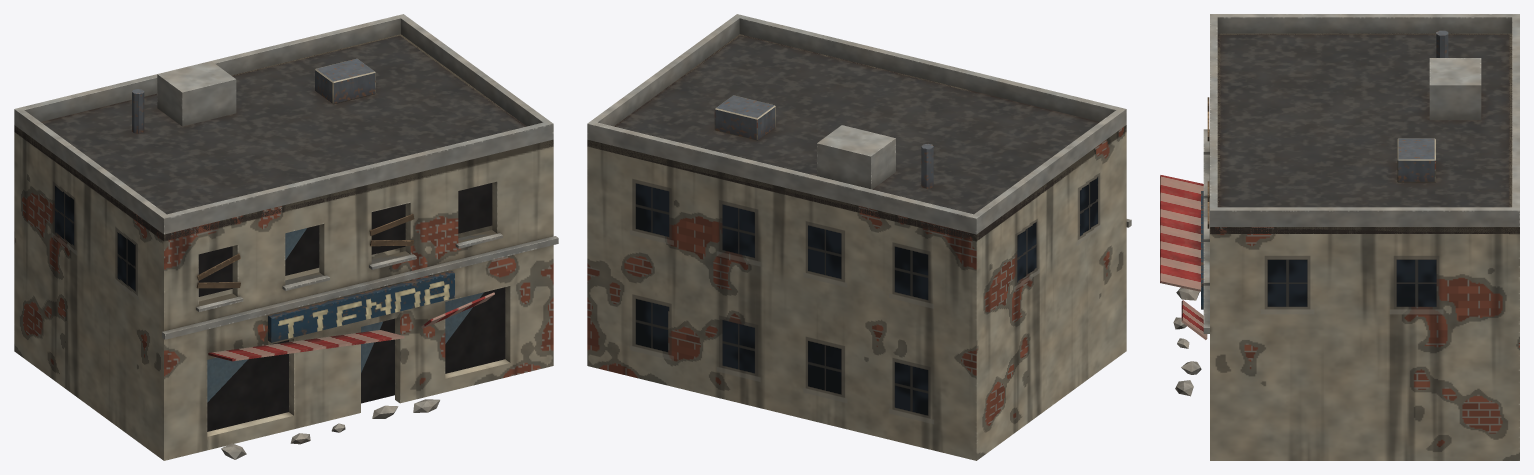
Rendered from Edificio_Tienda.glb.
3 renders of one model, left to right at view 1: azimuth 30°, elevation 25°; view 2: azimuth 150°, elevation 25°; view 3: azimuth 270°, elevation 25°, orthographic. The views are drawn at different scales.
Visible parts, largest first — view 1: Edificio_Tienda; view 2: Edificio_Tienda; view 3: Edificio_Tienda.
Part boxes in pixels (x1=…): Edificio_Tienda: x1=14, y1=14, x2=558, y2=460; Edificio_Tienda: x1=587, y1=14, x2=1131, y2=460; Edificio_Tienda: x1=1160, y1=14, x2=1519, y2=460.
Bounding box in the file's own units: 36.4 × 23.86 × 27.87.
1 material, 1 textured.
